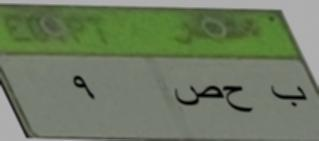7aa: (224, 77, 253, 120)
9: (72, 68, 98, 108)
baa: (265, 78, 309, 115)
saad: (172, 81, 223, 108)
